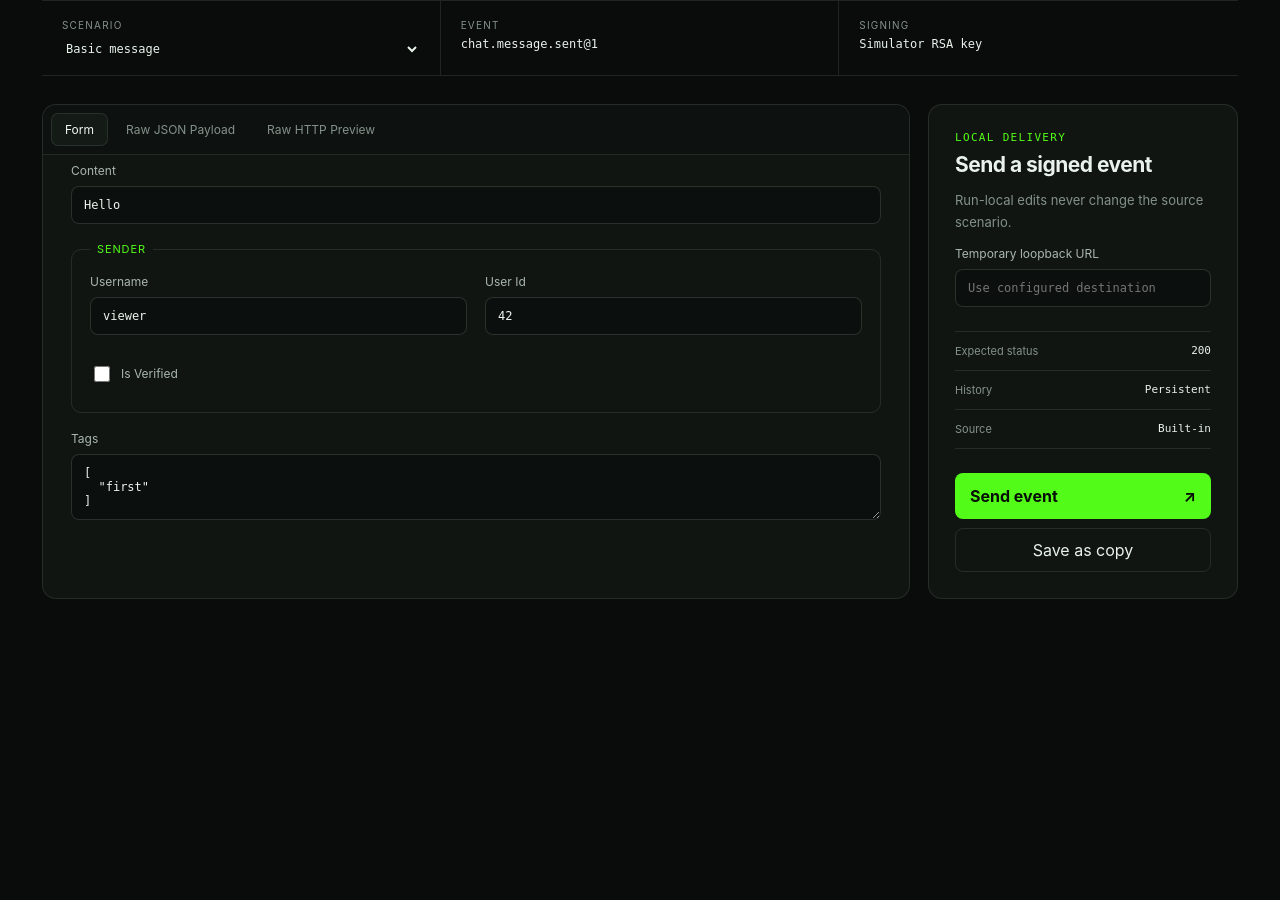
it: event builder request state › shows preview failures instead of an unavailable placeholder
Expected: the text "chat.message.sent@1" is shown, [461,37,598,51]
Click the tab "Raw HTTP Preview" at (321,130), box [253,113,389,146]
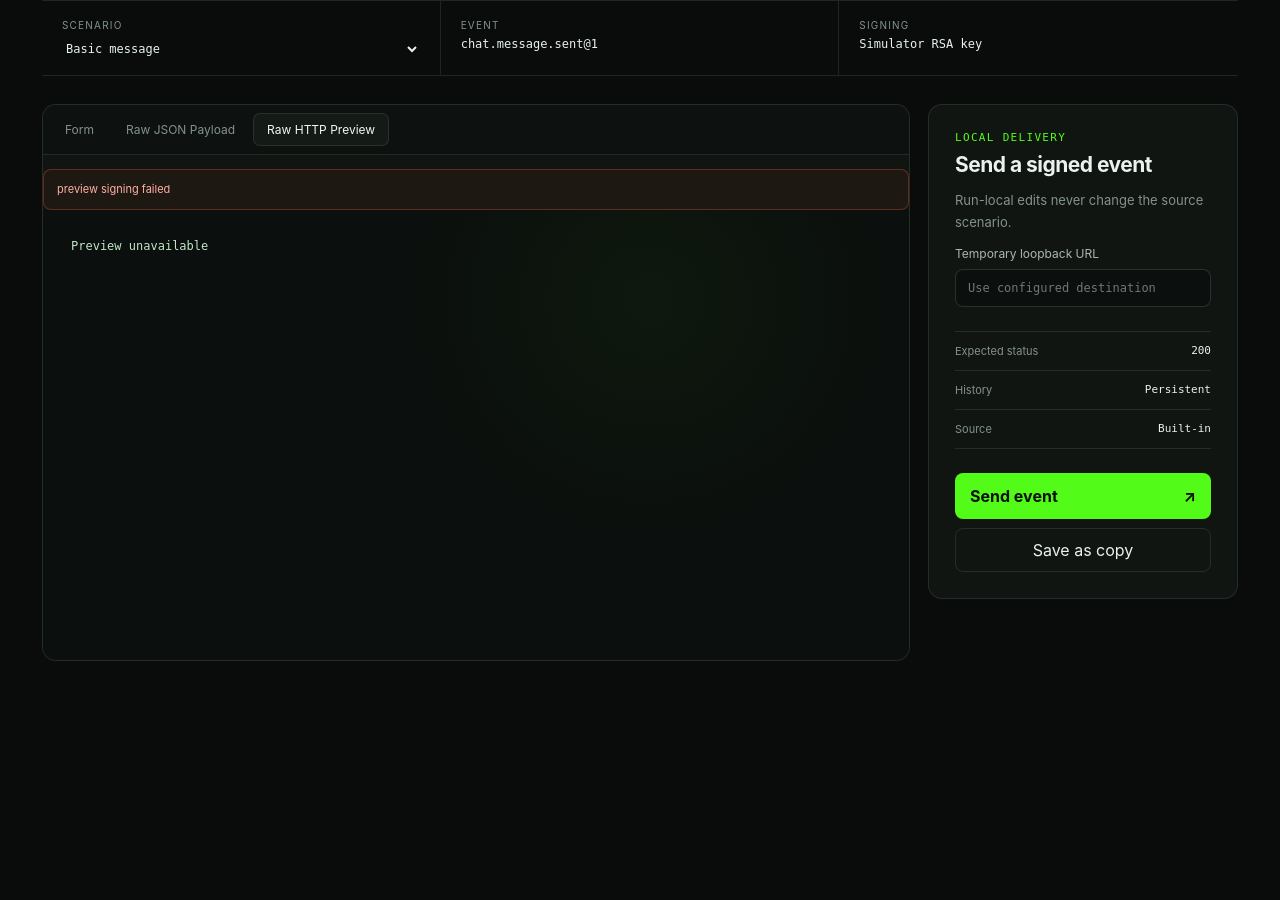
Result: the message reads "preview signing failed" at [57,182,170,196]
